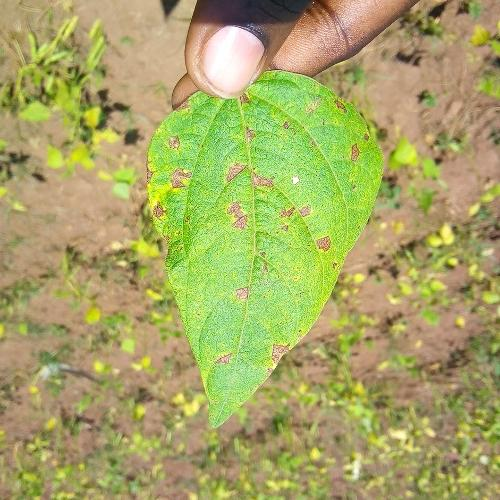hawar: (210, 154, 336, 268), (300, 69, 386, 175), (141, 112, 197, 246), (256, 324, 309, 392)
